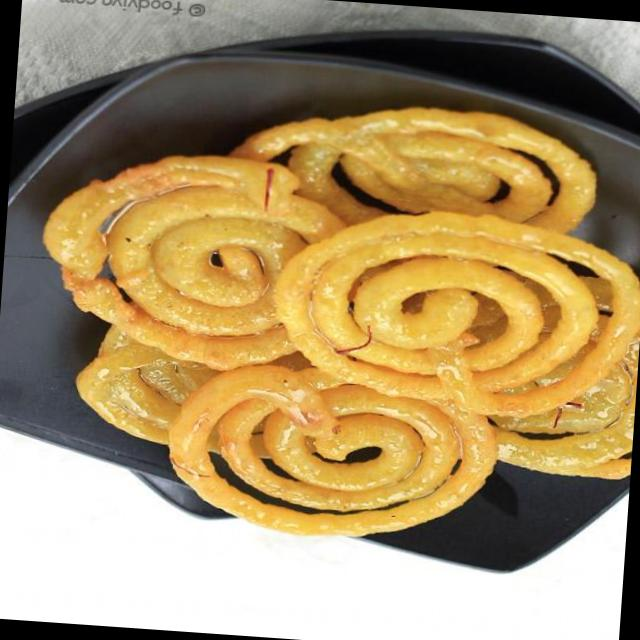jalebi: (22, 87, 640, 560)
